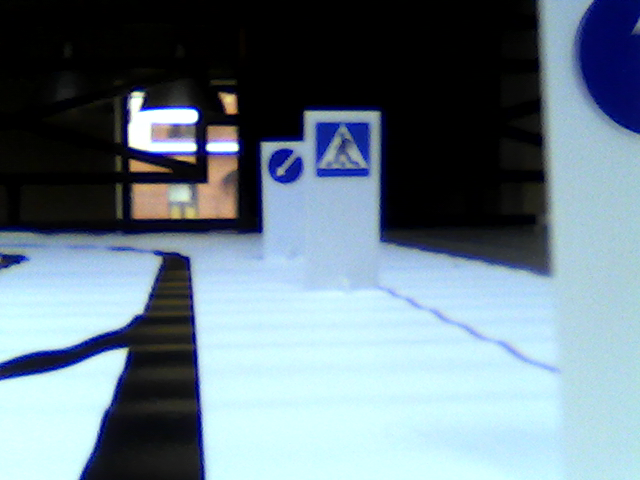pesh: (314, 121, 373, 179)
prep: (266, 148, 304, 182)
